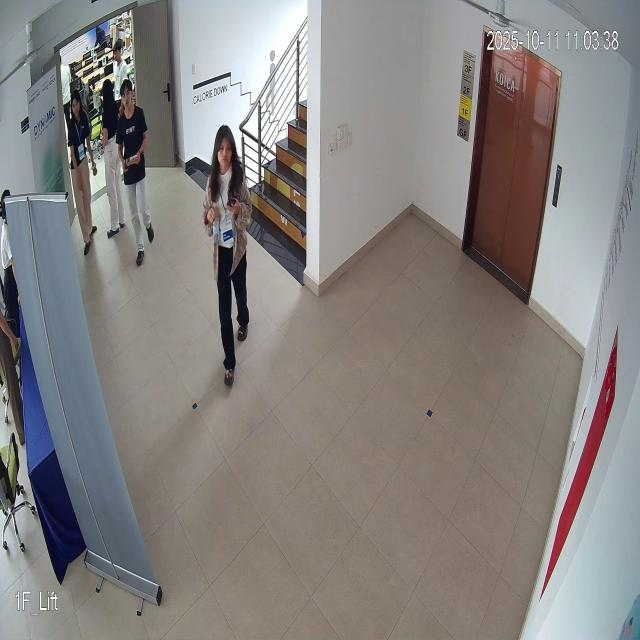face: (207, 123, 240, 187)
